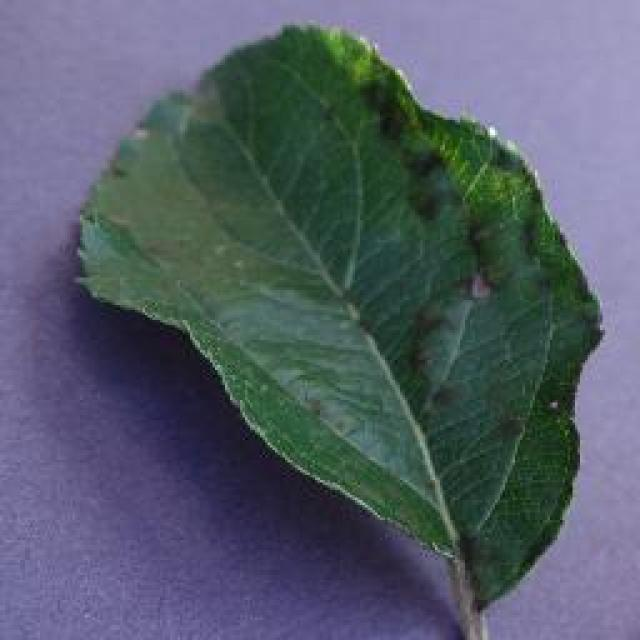apple scab disease: (73, 17, 605, 635)
